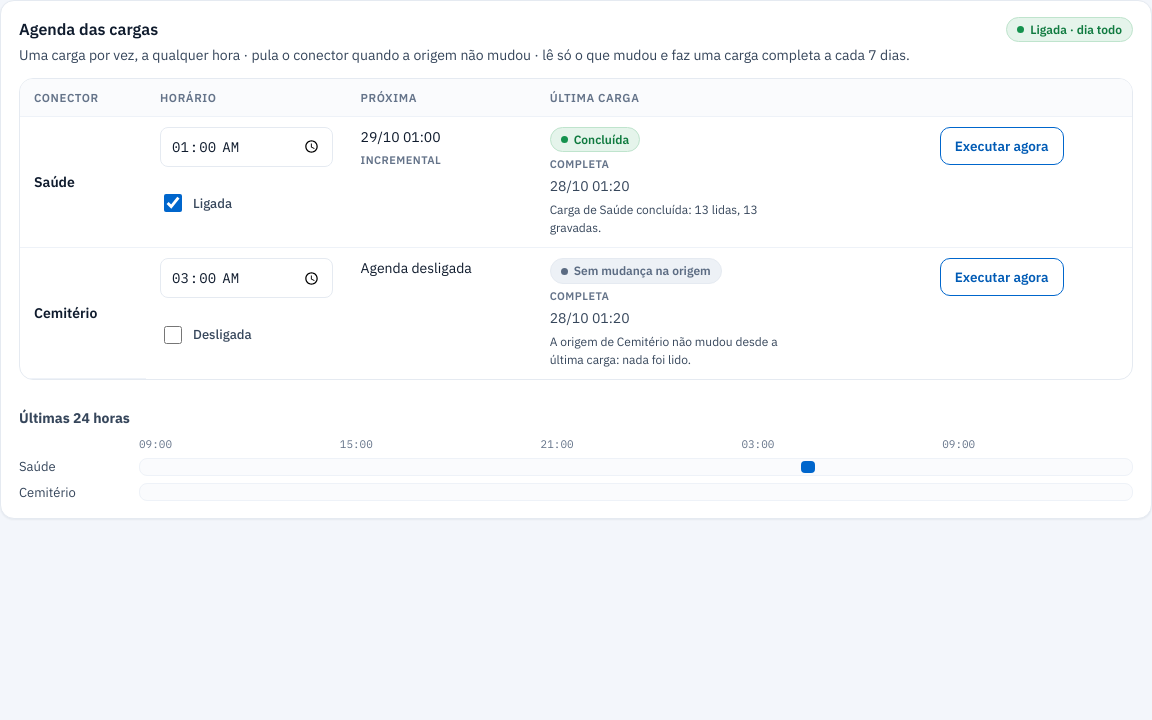
it: agenda das cargas (AG1–AG6) › admin liga/desliga e altera o horário (PUT) e executa agora (POST)
Click the checkbox named "Ligada para Saúde".
click(173, 203)  # box [164, 184, 182, 222]
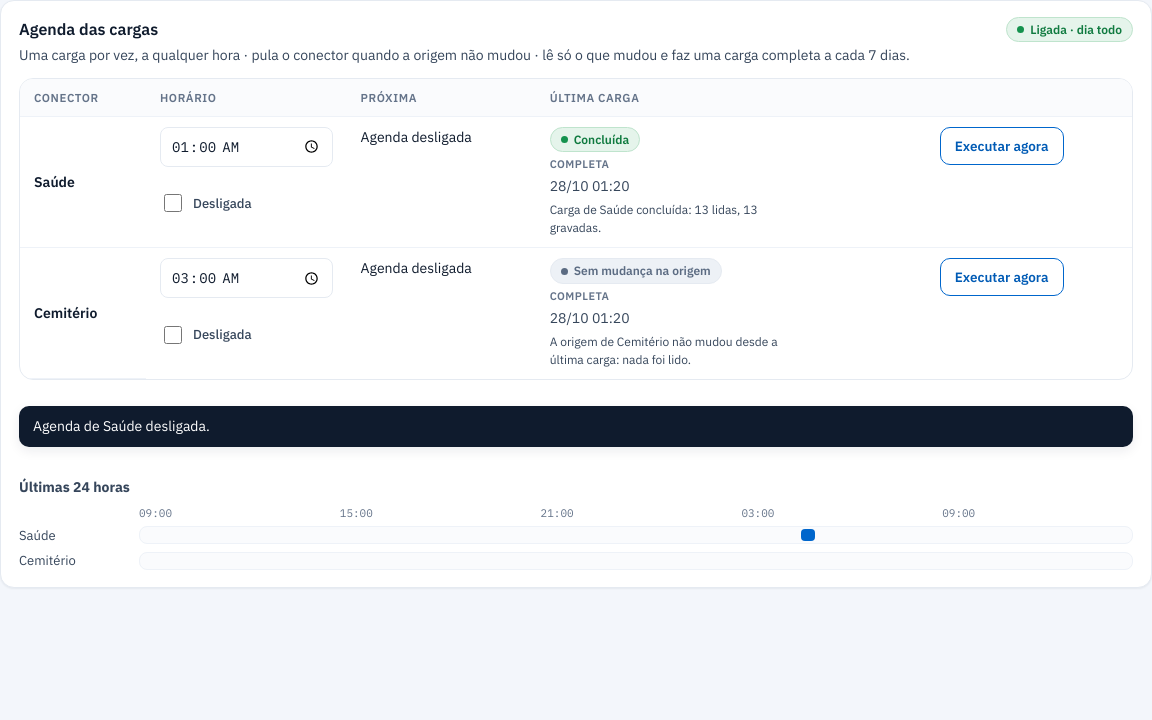
Expected: the text "Agenda de Saúde desligada." is shown, [19, 406, 1133, 447]
Replace the text in the time field named "Horário da carga de Saúde" with "02:30" at (246, 147), box [160, 127, 333, 167]
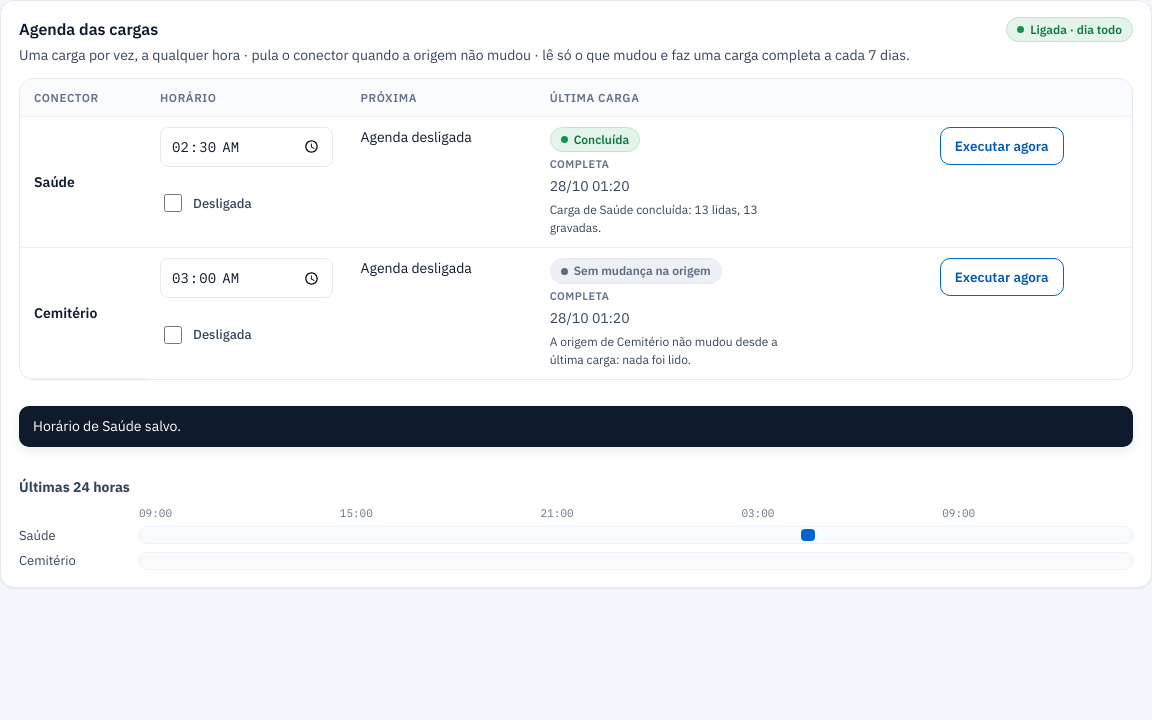
Click the 1st button "Executar agora".
click(1002, 146)  # box [940, 127, 1064, 165]
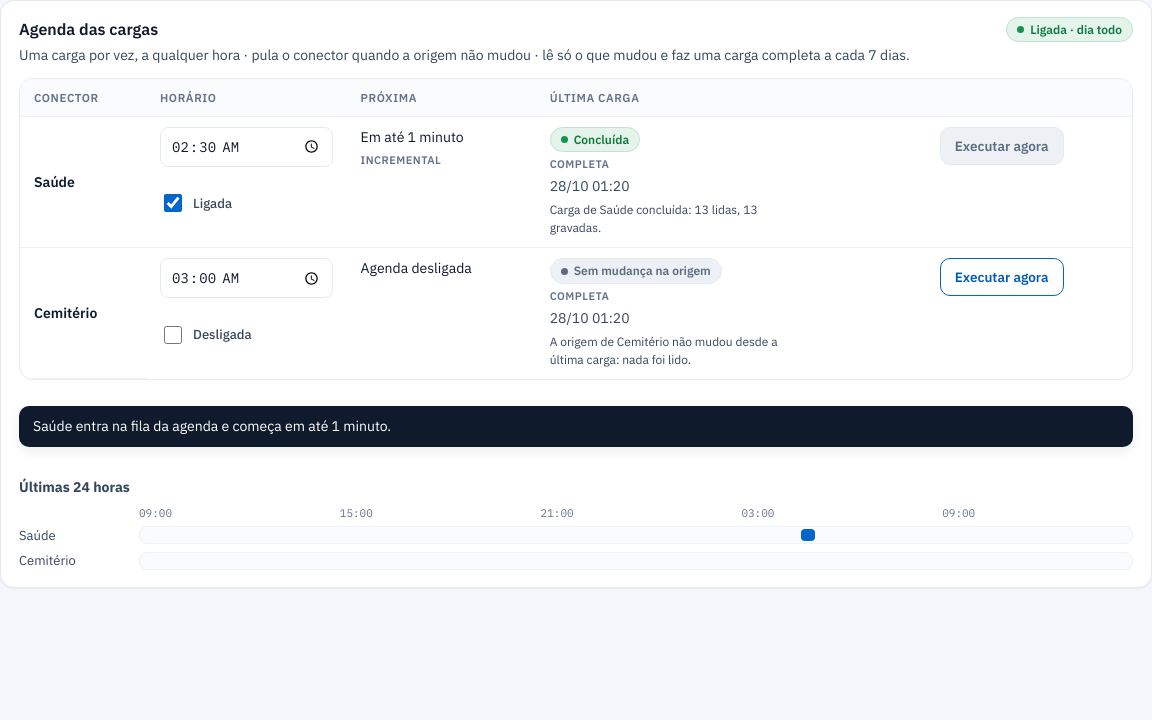
Expected: the text "Saúde entra na fila da agenda e começa em até 1 minuto." is shown, [19, 406, 1133, 447]
